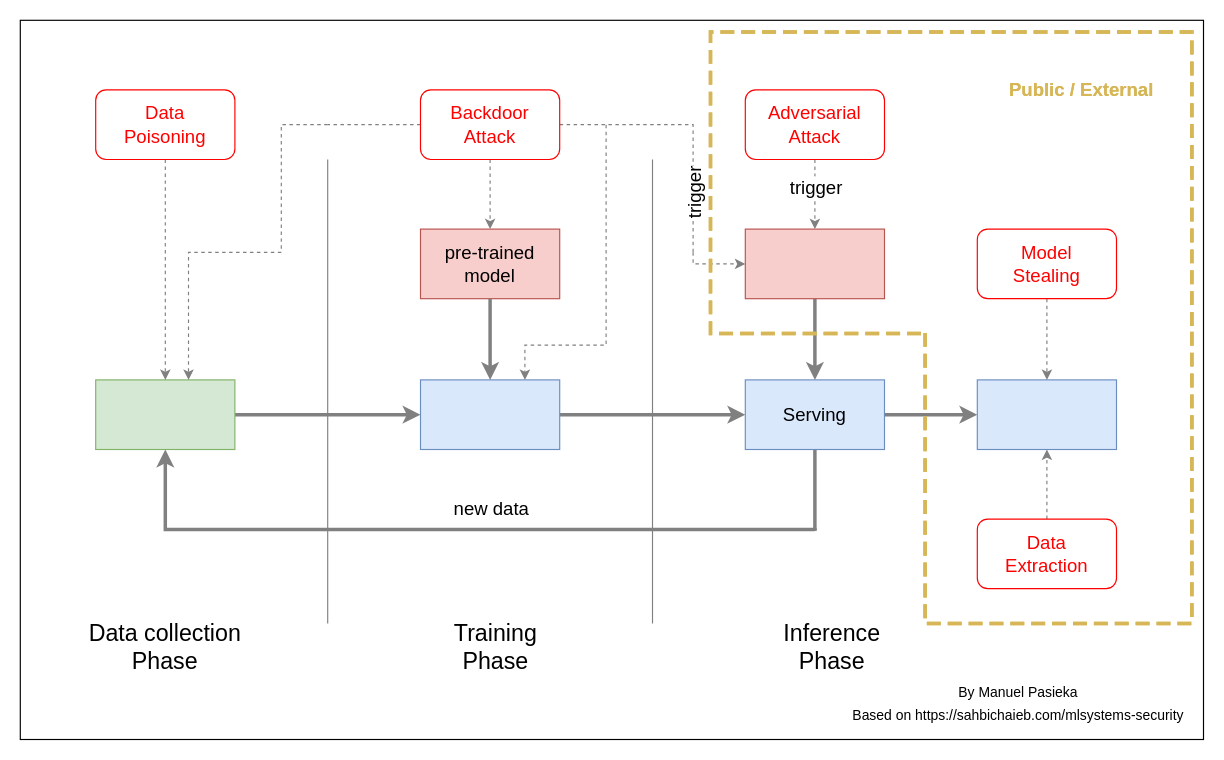
The diagram is 1224 pixels wide and 760 high, and some of its shapes have lost their labels. The box of each missing label's shape, as (x1, y1, x2, y2) in pixels:
Data: (95, 379, 235, 449)
Predictions: (976, 379, 1116, 449)
Requests: (744, 228, 884, 299)
Training: (419, 379, 560, 449)
